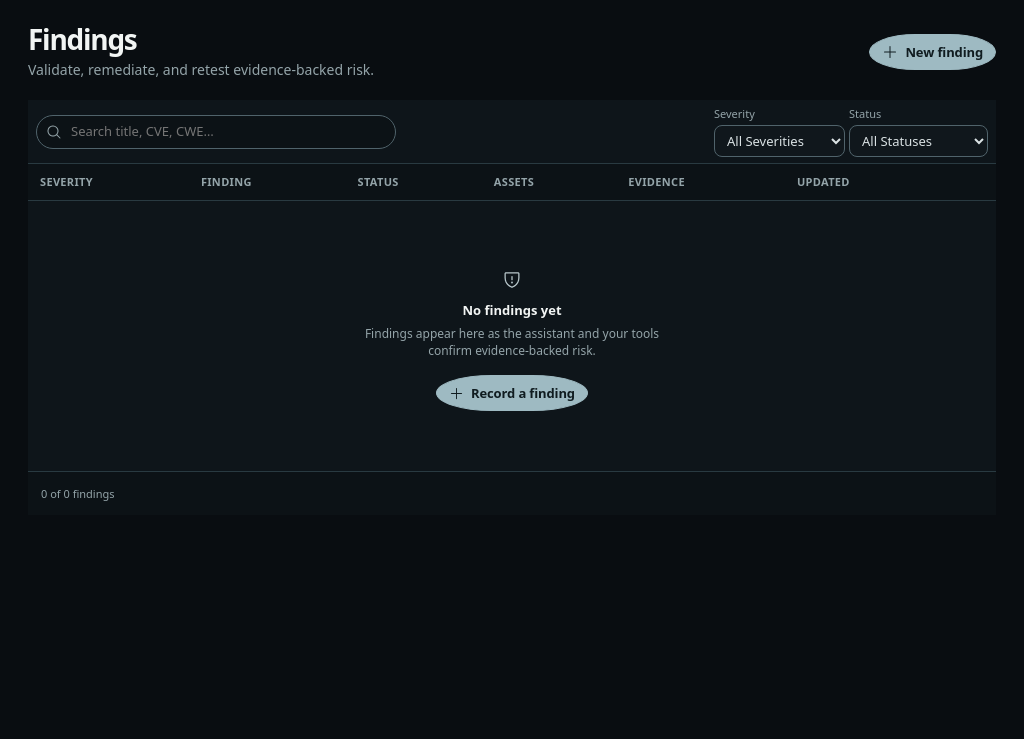
it: candidate finding dialog › stays open while the finding is being created and shows the failure inside
Click the button "New finding": click(933, 52) [869,34,996,70]
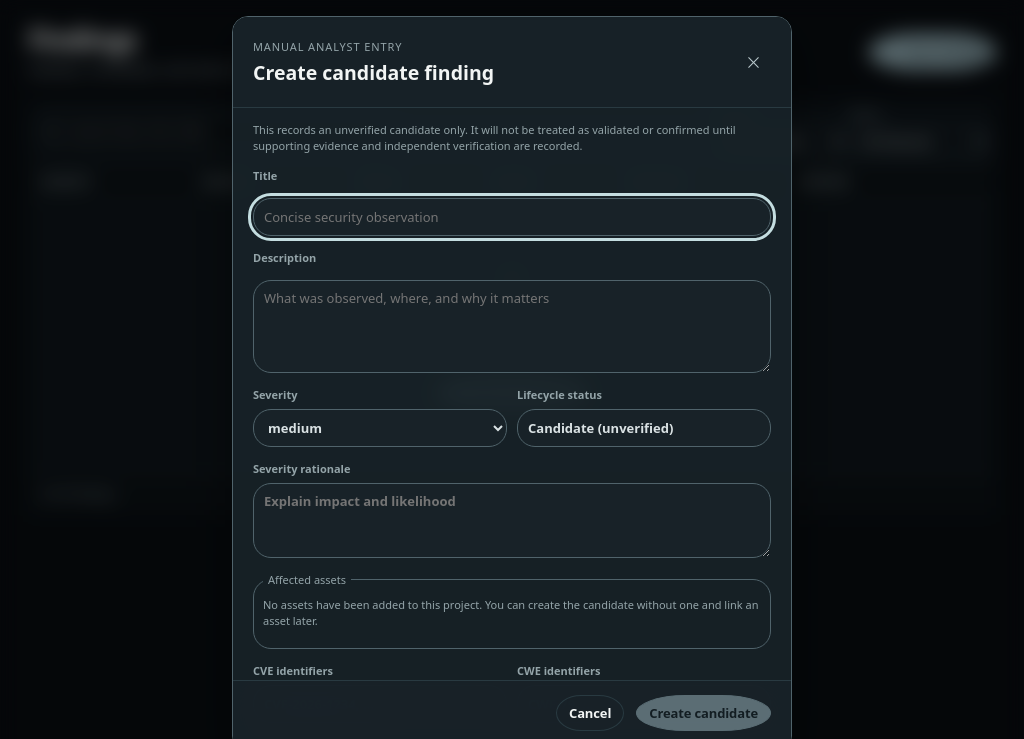
In the field labelled "Title": (512, 217) [253,198,771,236], type "Exposed admin panel"
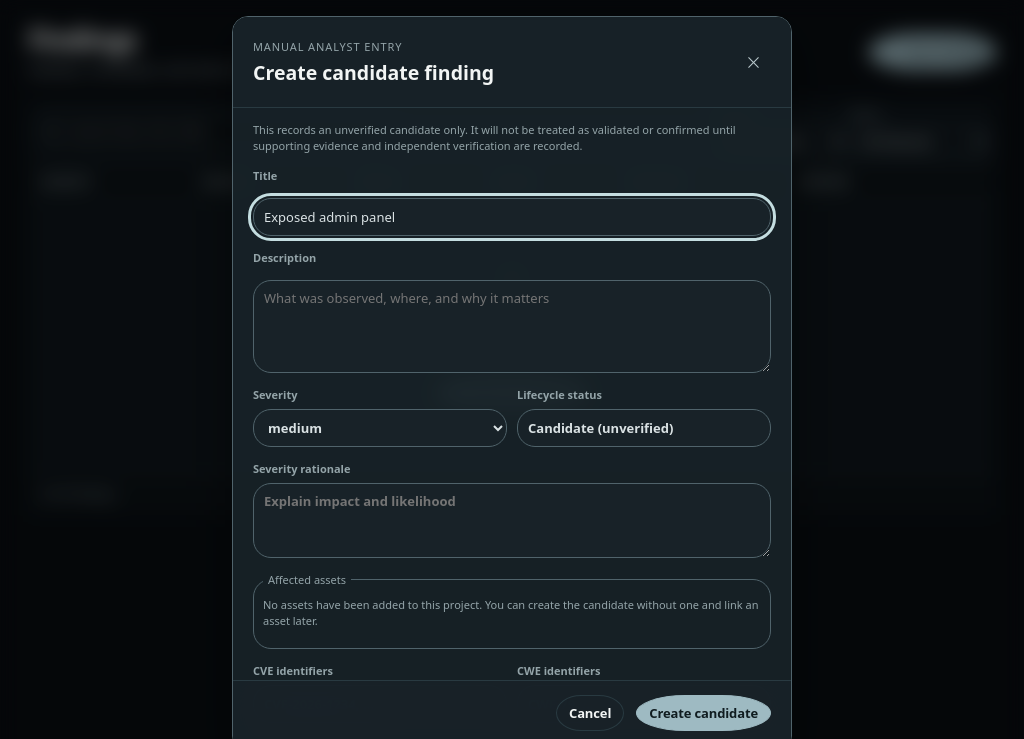
Click the button "Create candidate": click(704, 713) [636,695,771,731]
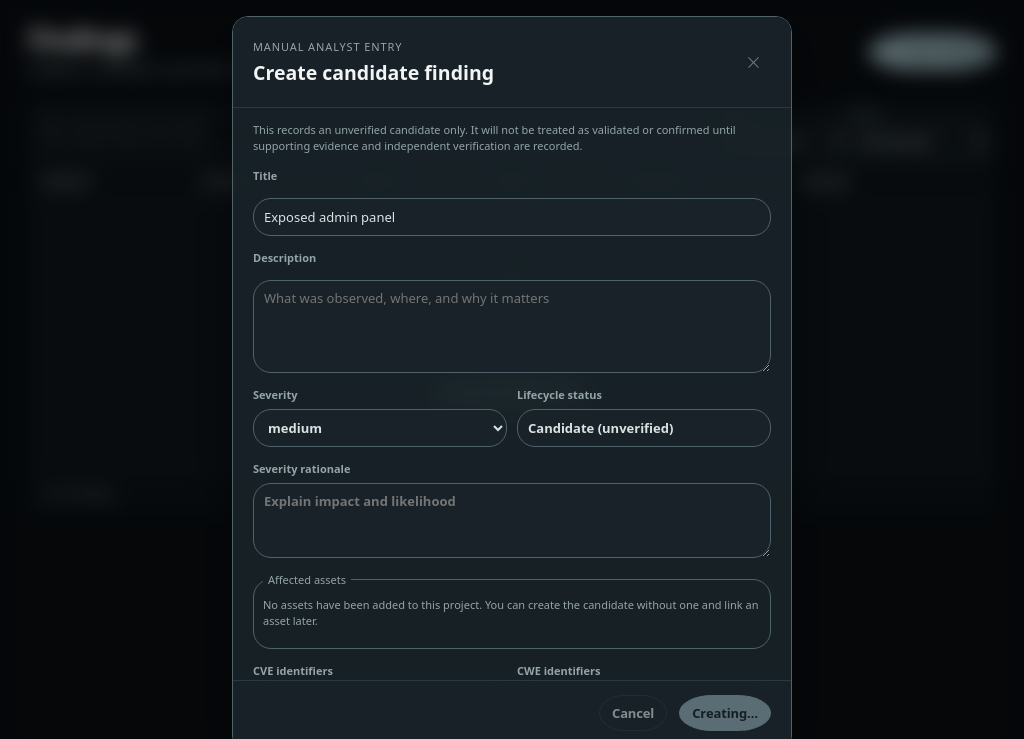
Expected: the button "Creating…" is disabled, [679,695,771,731]
Expected: the button named "Close candidate finding dialog" is disabled, [735,44,771,80]
Expected: the button "Cancel" is disabled, [599,695,667,731]
Press Escape
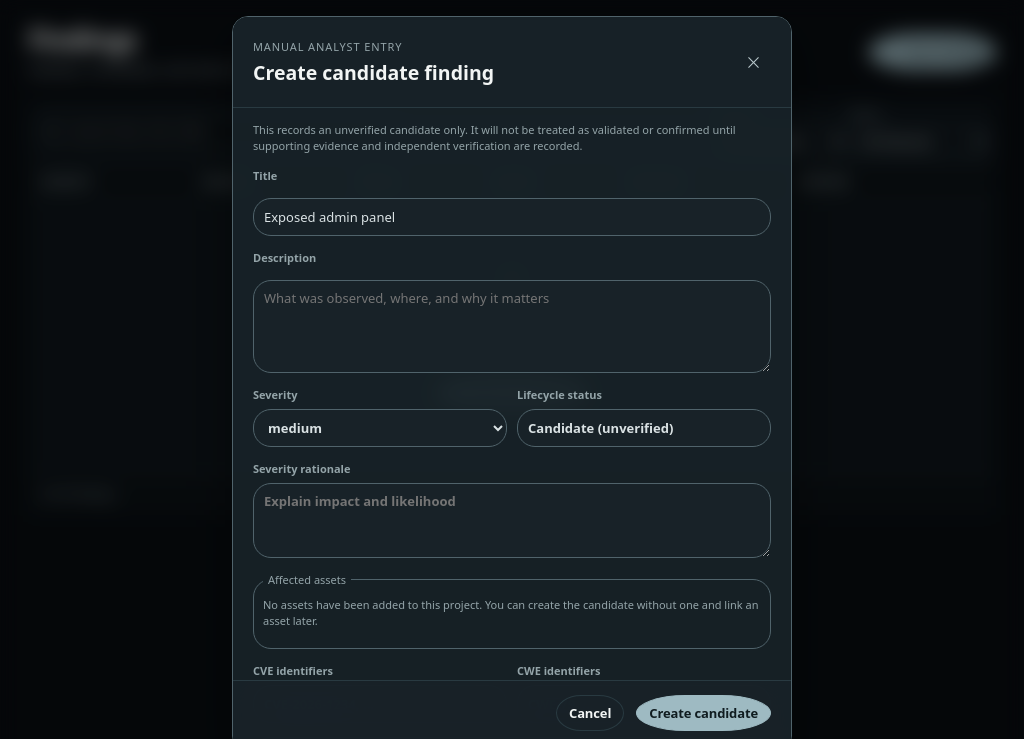
Expected: the button "Cancel" is enabled, [556,695,624,731]
